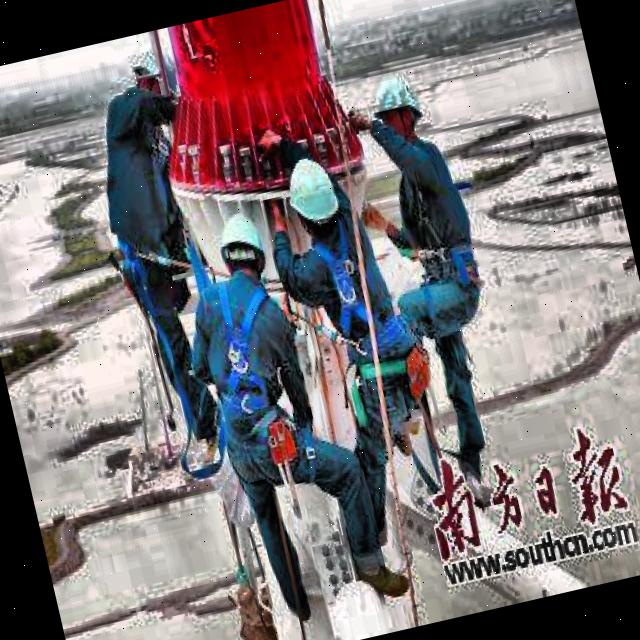helmet: (276, 146, 348, 247), (364, 70, 431, 144), (120, 40, 188, 111), (210, 214, 270, 290)
